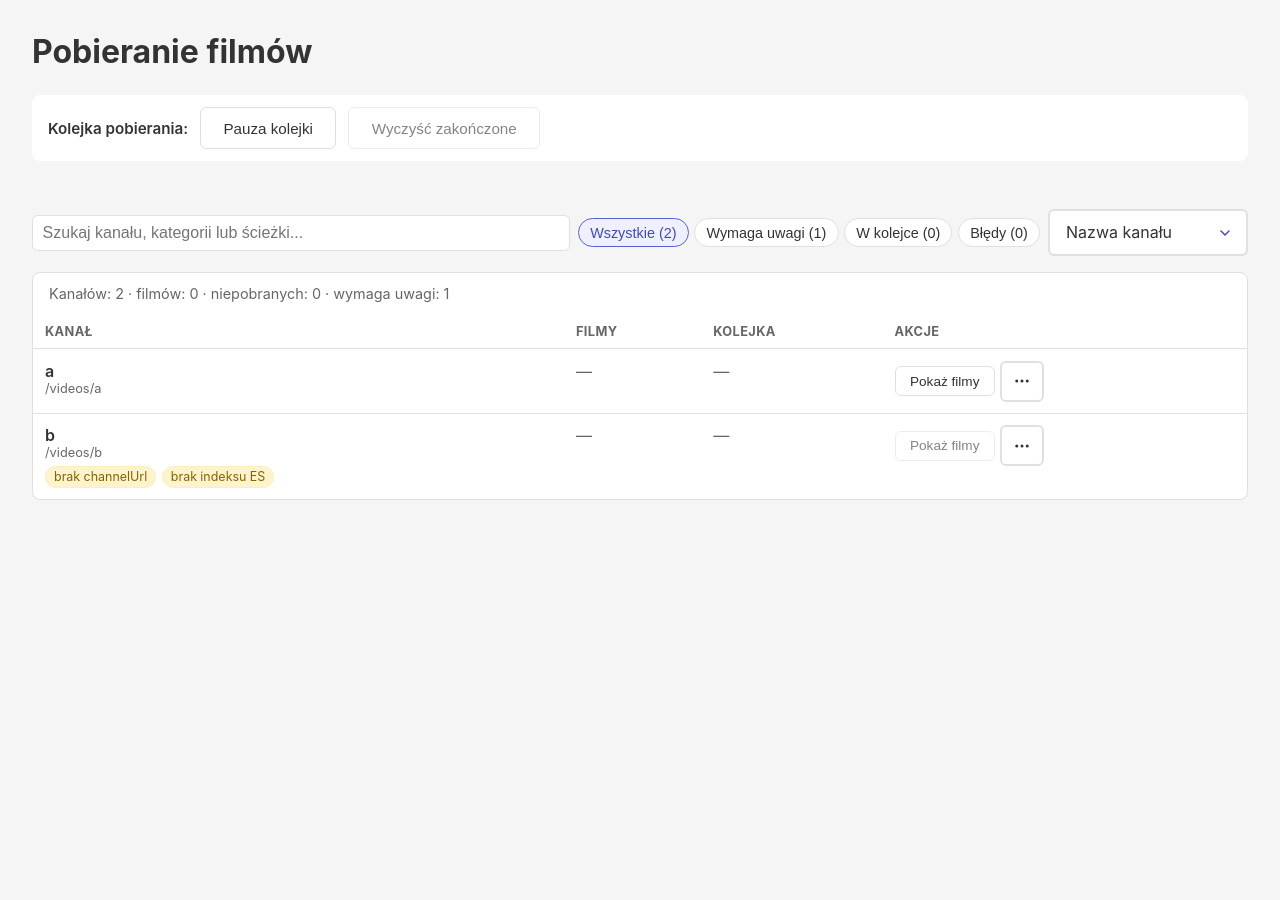
Test case: StatusPage › opens the full folder section under the row the URL expands
Expected: the text "/videos/a" is shown, [45,381,101,396]
Click the button "Pokaż filmy" in the row of "/videos/a" at (945, 381), box [895,366,995,396]
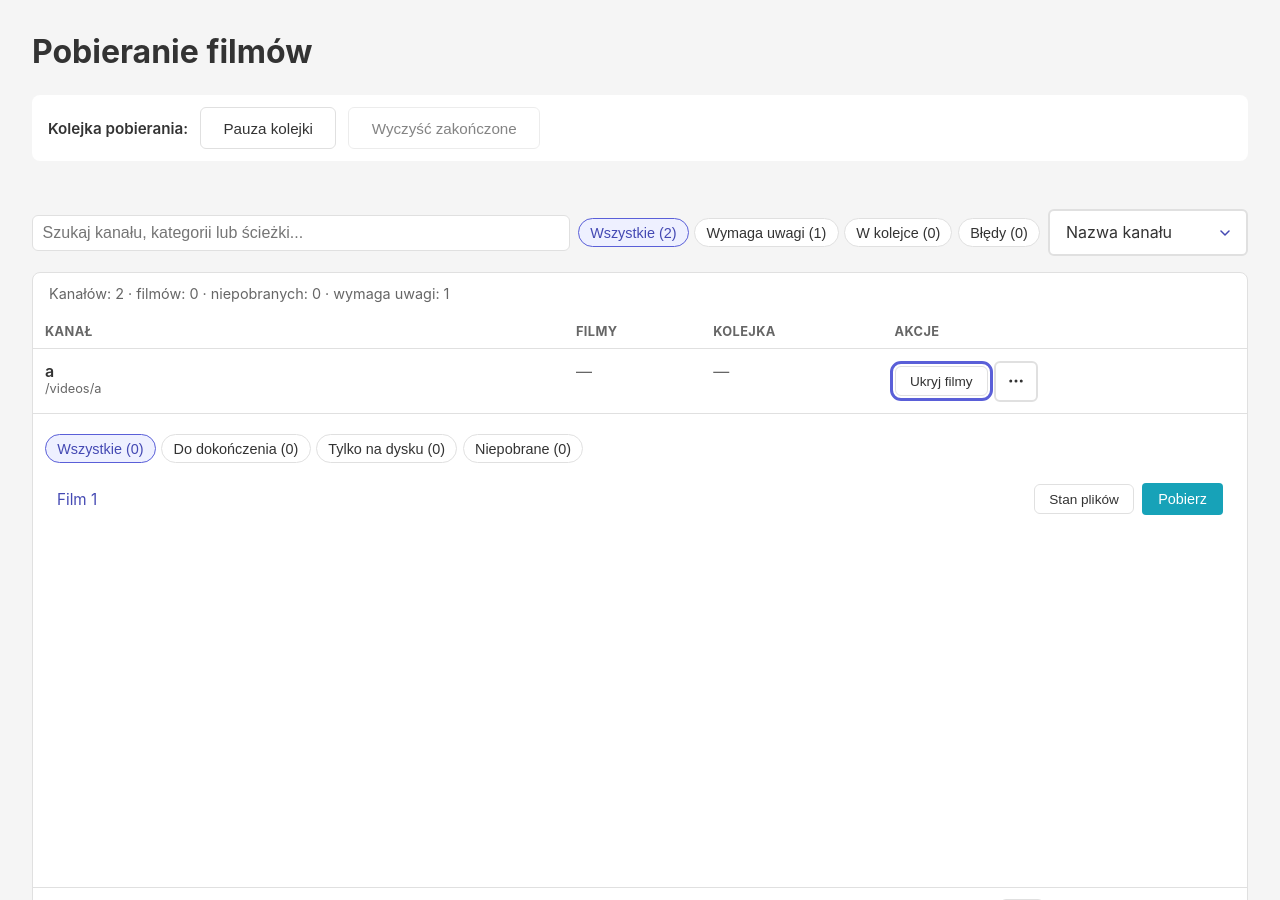
Expected: the link "Film 1" is shown, [57,490,97,509]
Expected: the number of list items is 1, [57,483,1223,515]
